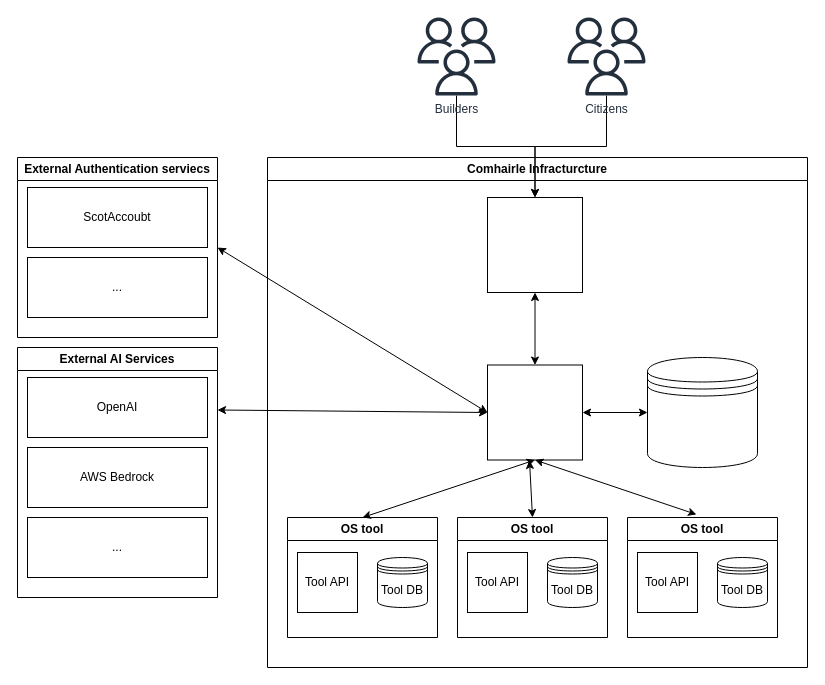
This 825x685 diagram has some shape labels left out. The centre of each missing label's shape, as x and y in pixels:
"Comhairle API server" goes at point 534,412.
"Comhairle DB" goes at point 702,412.
"Comhairle frontned" goes at point 534,244.
